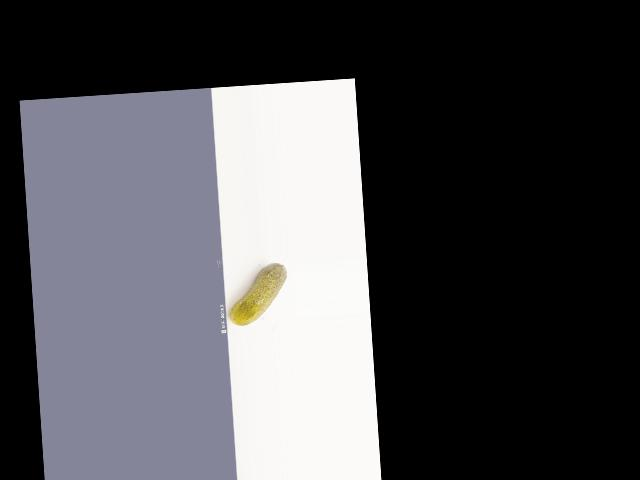cucumber: (226, 261, 289, 326)
